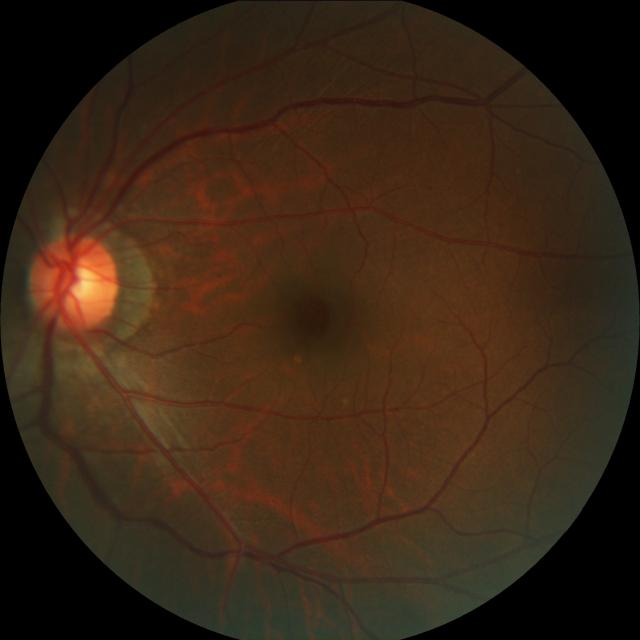OC: (57, 258, 98, 300)
OD: (25, 232, 116, 330)
